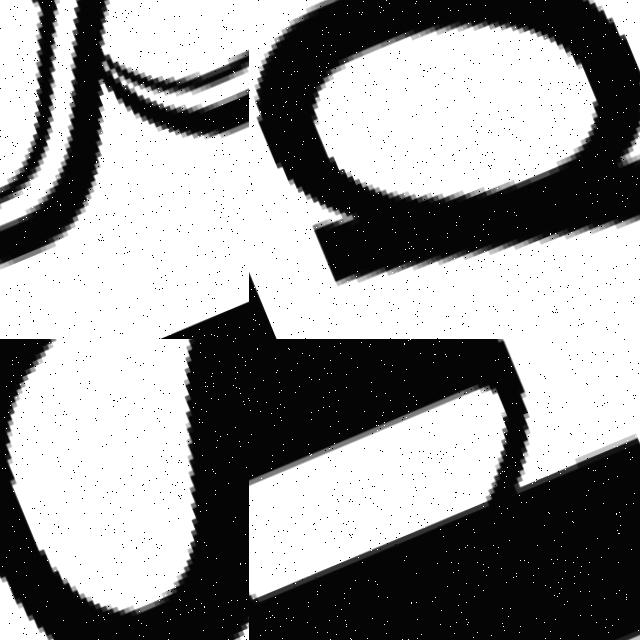8: (0, 0, 249, 314)
D: (249, 0, 640, 339), (249, 339, 640, 640)
S: (0, 339, 249, 640)
